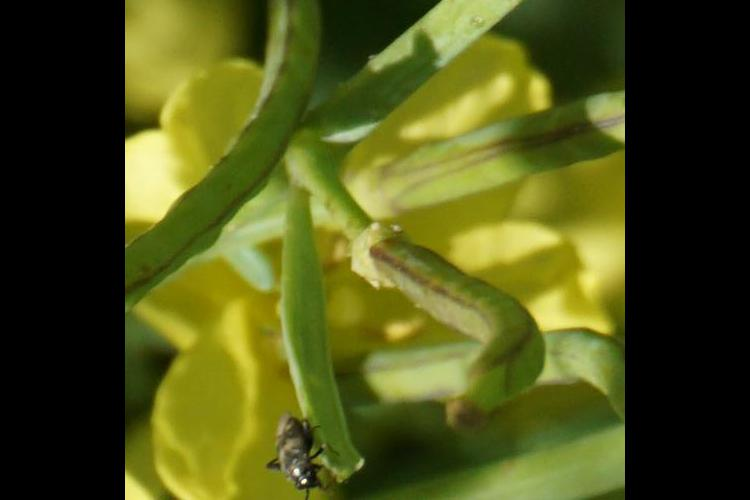pod: (168, 1, 319, 375), (359, 214, 543, 438), (274, 249, 372, 482)
yellow: (154, 161, 275, 500)
